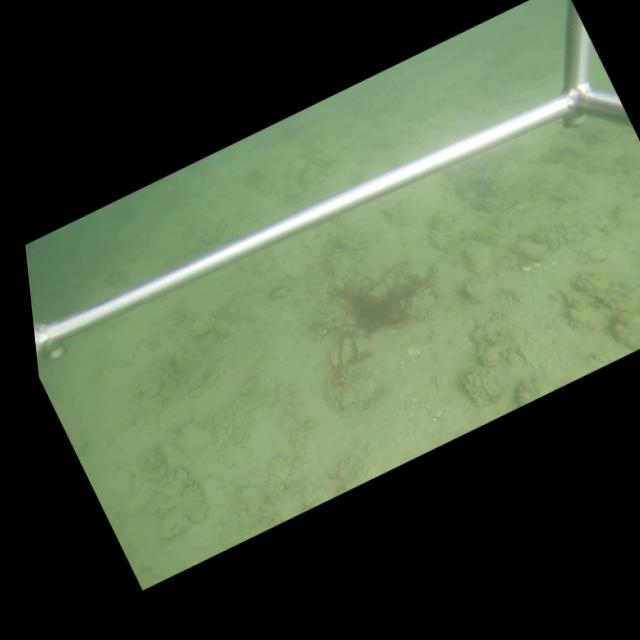Oyster-Closed: (462, 282, 488, 309)
Oyster-Indeterminate: (512, 237, 551, 262)
